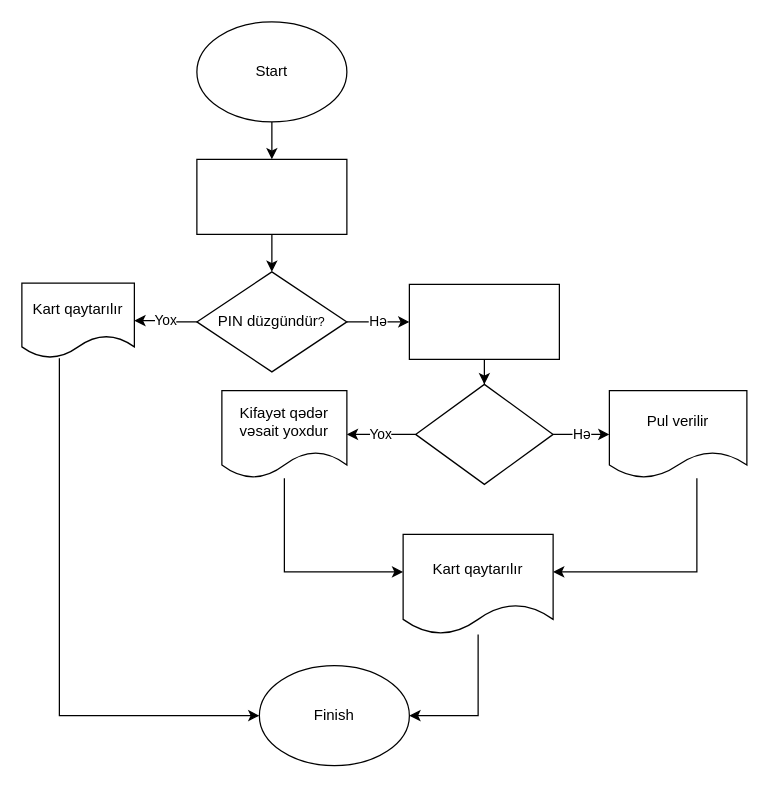
Some shapes in this 769 by 788 pixel diagram are drawn without their labels. Each missing label, with the centre of its shape:
Balans çatır ?: point (483, 433)
Məbləği yaz: point (483, 321)
PIN kodu yaz: point (271, 196)
